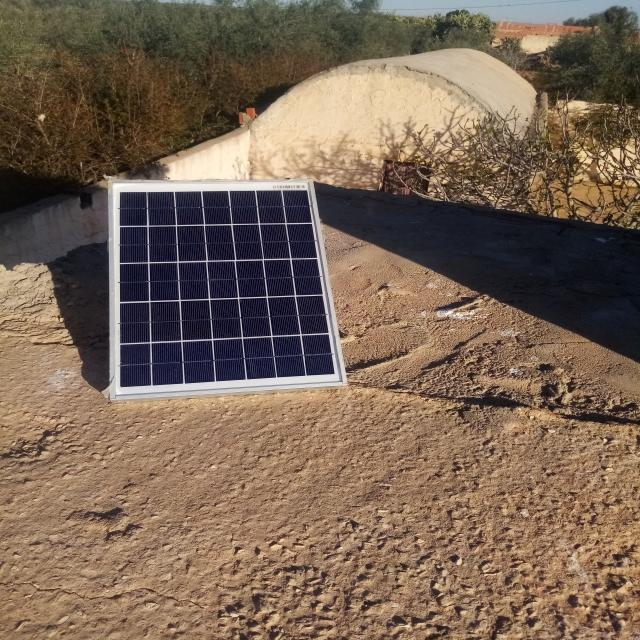no faulty: (109, 179, 348, 401)
